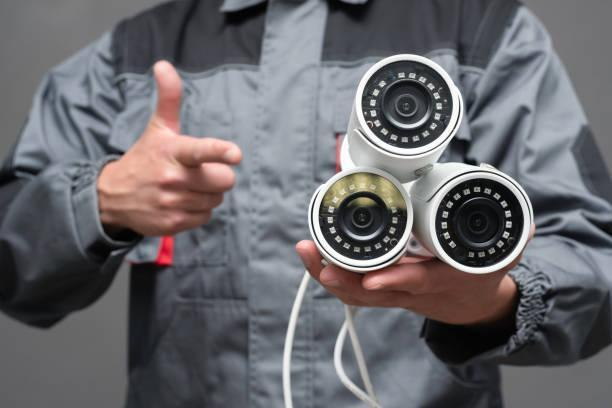camera: (410, 156, 553, 307), (310, 47, 477, 165), (279, 160, 419, 281)
